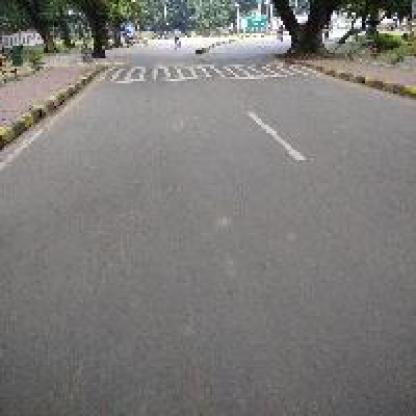Speed Bump: (96, 52, 312, 87)
